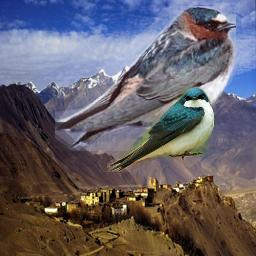Swallow: (55, 6, 236, 151), (107, 87, 215, 172)
